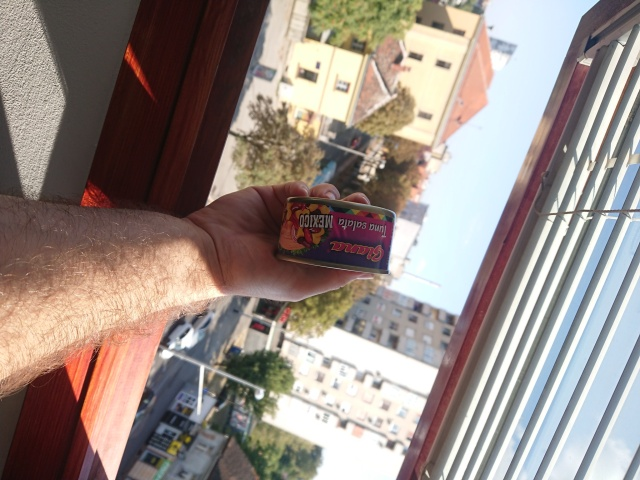Giana Tuna Salad Mexico 185g: (274, 194, 398, 277)
